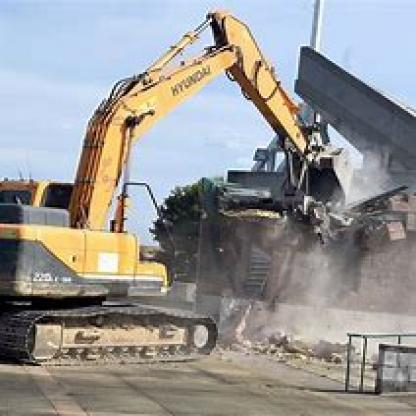excavator: (6, 6, 363, 370)
